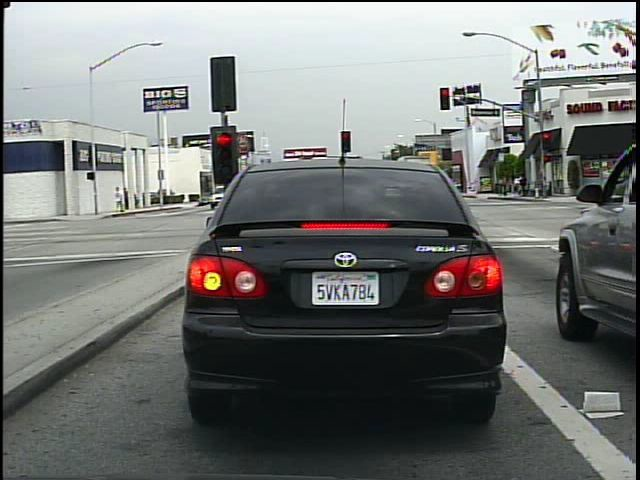person: (115, 185, 128, 217), (517, 172, 530, 200)
